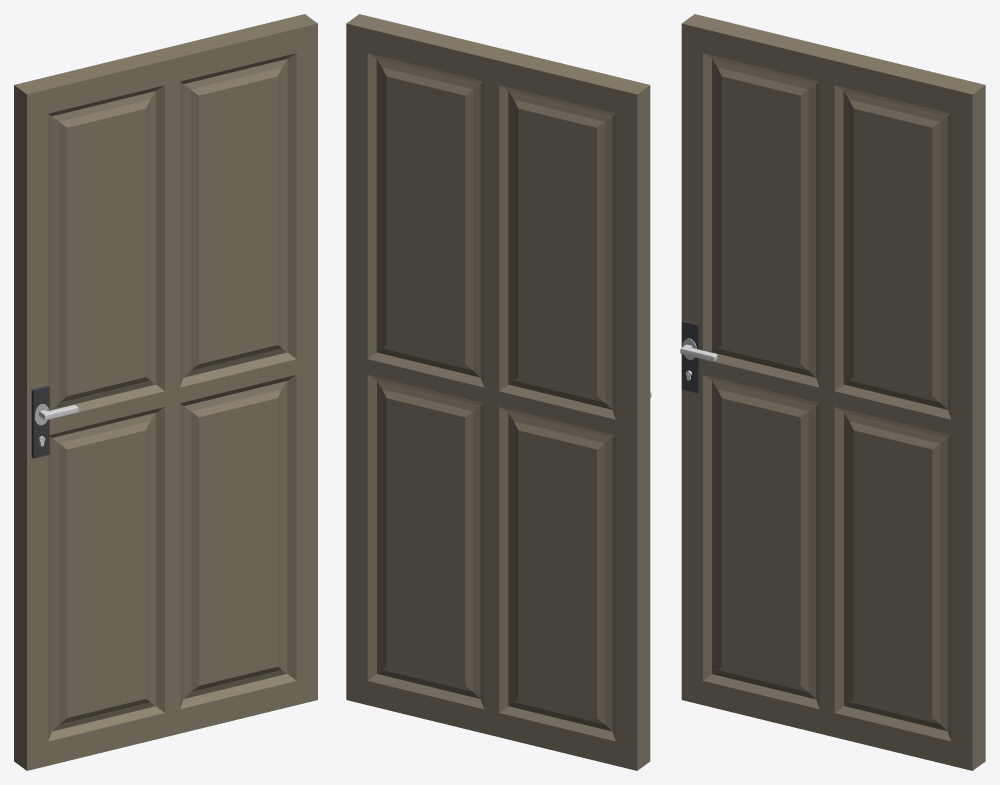
The picture shows the model from 3 angles, left to right: view 1: azimuth 30°, elevation 25°; view 2: azimuth 150°, elevation 25°; view 3: azimuth 330°, elevation 25°; orthographic projection.
Visible parts, largest first — view 1: pintu_2, pegangan pintu (base)_3; view 2: pintu_2; view 3: pintu_2, pegangan pintu (base)_3.
Boxes of the visible parts, bbox=[...] form: pintu_2: bbox=[14, 14, 317, 770]; pegangan pintu (base)_3: bbox=[31, 386, 49, 458]; pintu_2: bbox=[346, 14, 650, 770]; pintu_2: bbox=[681, 14, 985, 770]; pegangan pintu (base)_3: bbox=[681, 320, 699, 393].
Bounding box in the file's own units: 0.9 × 2 × 0.1216.
